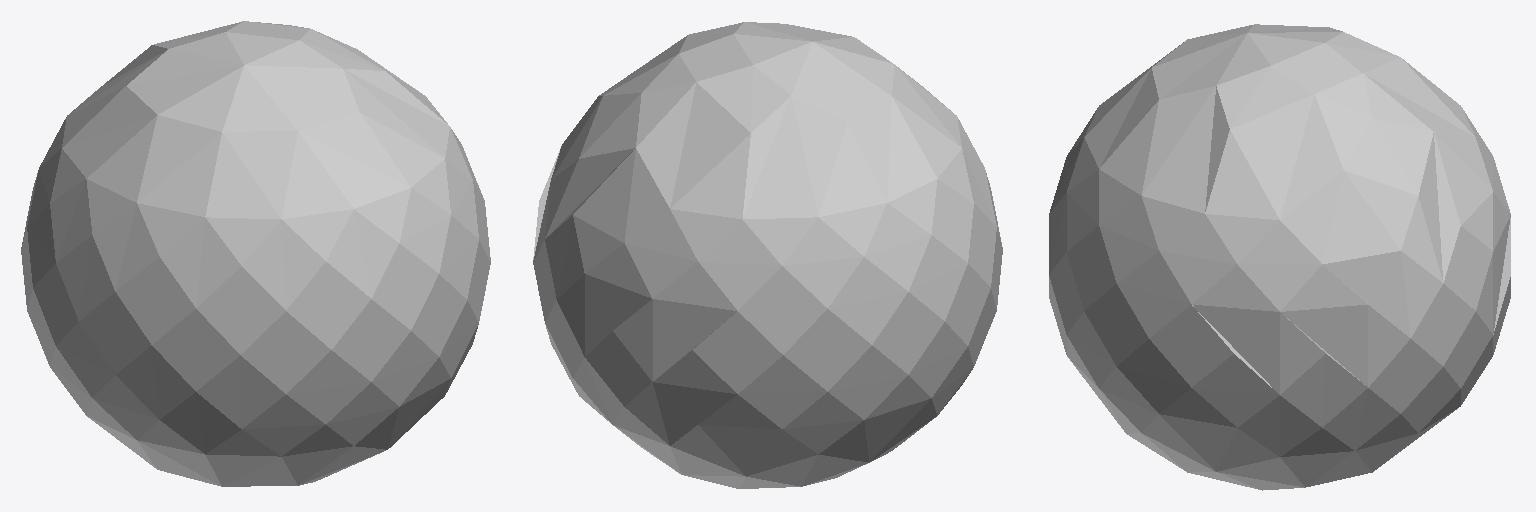
Rendered from water2.obj.
The picture shows the model from 3 angles: view 1: azimuth 30°, elevation 25°; view 2: azimuth 150°, elevation 25°; view 3: azimuth 270°, elevation 25°; orthographic projection.
Visible parts, largest first — view 1: Sphere.002; view 2: Sphere.002; view 3: Sphere.002.
Part boxes in pixels (bbox=[...]): Sphere.002: bbox=[21, 21, 490, 486]; Sphere.002: bbox=[533, 22, 1002, 488]; Sphere.002: bbox=[1049, 24, 1510, 490].
Bounding box in the file's own units: 0.2775 × 0.2775 × 0.2775.